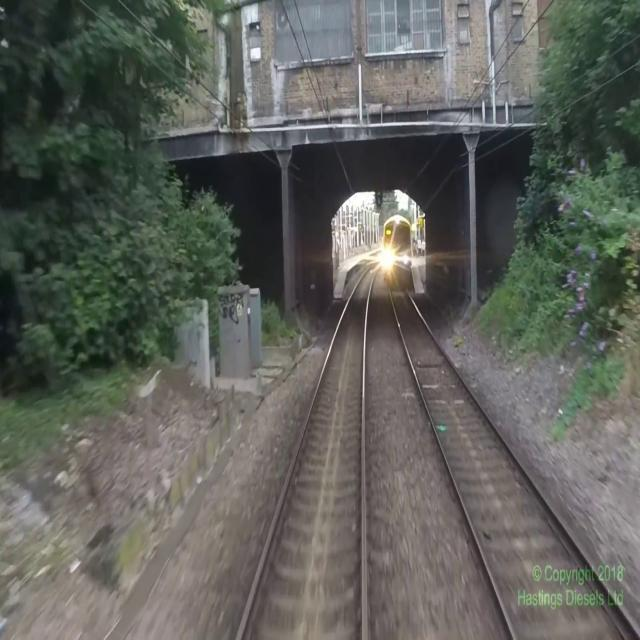rail-track: (390, 289, 640, 639), (239, 263, 379, 639)
